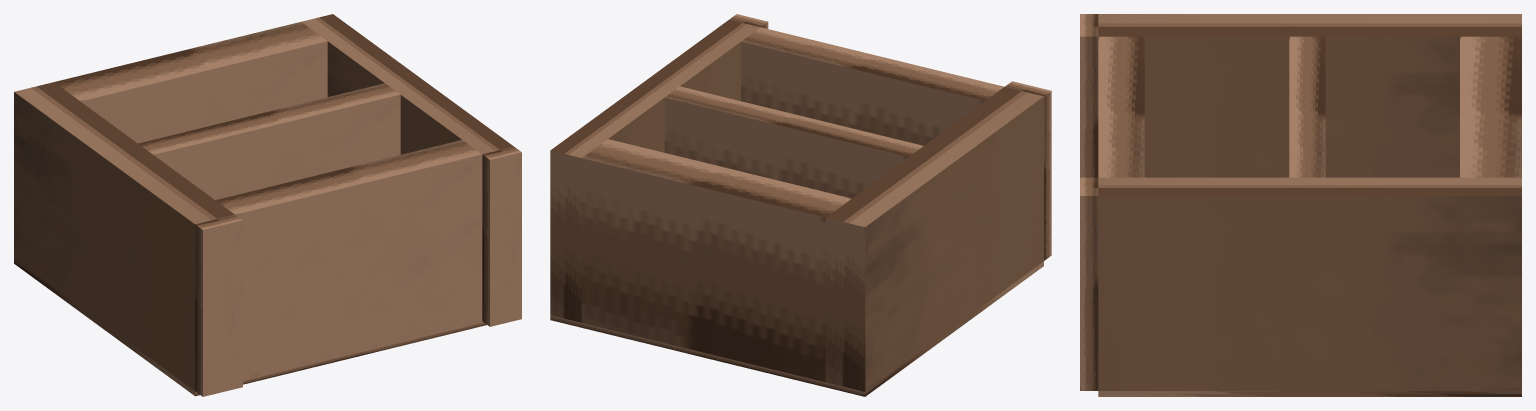
Rendered from pz_g016_storage_low.obj.
The picture shows the model from 3 angles, left to right: view 1: azimuth 30°, elevation 25°; view 2: azimuth 150°, elevation 25°; view 3: azimuth 270°, elevation 25°; orthographic projection. The views are drawn at different scales.
Parts seen in each view (by area): view 1: pz_g016_storage_low; view 2: pz_g016_storage_low; view 3: pz_g016_storage_low.
Part boxes in pixels (x1,y1,x2,y2): pz_g016_storage_low: (14, 14, 521, 396); pz_g016_storage_low: (550, 14, 1051, 396); pz_g016_storage_low: (1080, 14, 1521, 396).
Size of the model in its own units: 0.7632 by 0.393 by 0.7829.
Materials: 1 (1 with a texture image).
